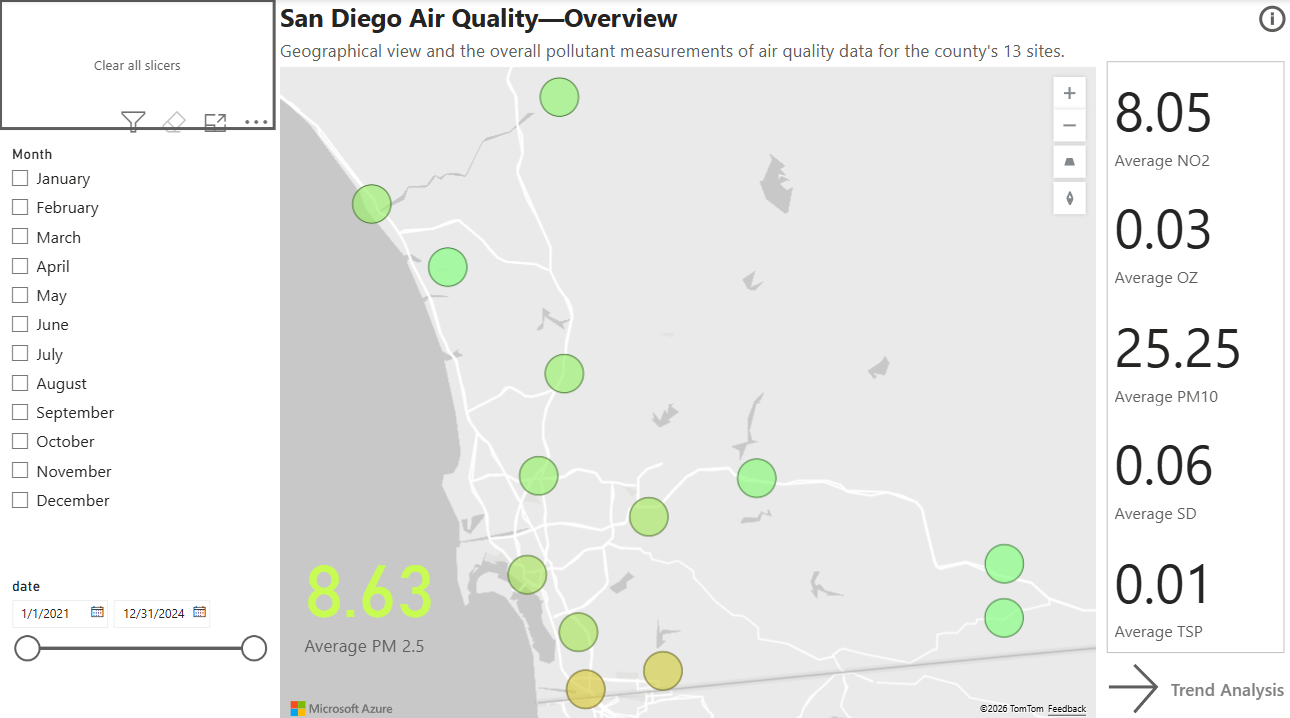

What the dashboard file says about the page in this screenshot:
{"tool":"powerbi","page":{"name":"Overview","canvas":[1280,720],"ordinal":0},"visuals":[{"type":"azureMap","title":"San Diego Air Quality—Overview","fields":{"Y":["Site Data.latitude"],"X":["Site Data.longitude"]},"box":[274.4,0,819.2,719.4],"z":0},{"type":"cardVisual","title":"Average PM 2.5","fields":{"Data":["Air Quality.toolkit_avg_pm25"]},"box":[284.9,525.1,253.4,147],"z":1000},{"type":"slicer","fields":{"Values":["Air Quality.date.Variation.Date Hierarchy.Month"]},"box":[0,140.5,274.4,428],"z":2000},{"type":"slicer","fields":{"Values":["Air Quality.date"]},"box":[0,568.5,274.4,151],"z":3000},{"type":"actionButton","box":[0,0,274.4,130],"z":4000},{"type":"cardVisual","fields":{"Data":["Avg(Air Quality.NO2)","Avg(Air Quality.OZ)","Avg(Air Quality.PM10)","Avg(Air Quality.SD)","Avg(Air Quality.TSP)"]},"box":[1093.6,56.5,186.4,597.3],"z":5000},{"type":"actionButton","box":[1244.6,0,35.4,39.4],"z":6000},{"type":"actionButton","title":"Trend Analysis","box":[1094.1,652.9,185.3,61.8],"z":7000}]}

Visuals, with their boxes in screenshot pixels (x1, y1, x2, y2), scaled from the page's 1280x720 canvas onto the 1290x718 screenshot:
"San Diego Air Quality—Overview" azureMap: <region>277, 0, 1102, 717</region>
"Average PM 2.5" cardVisual: <region>287, 524, 543, 670</region>
slicer - Air Quality.date.Variation.Date Hierarchy.Month: <region>0, 140, 277, 567</region>
slicer - Air Quality.date: <region>0, 567, 277, 717</region>
actionButton: <region>0, 0, 277, 130</region>
cardVisual - Avg(Air Quality.NO2) x Avg(Air Quality.OZ): <region>1102, 56, 1289, 652</region>
actionButton: <region>1254, 0, 1289, 39</region>
"Trend Analysis" actionButton: <region>1103, 651, 1289, 713</region>
